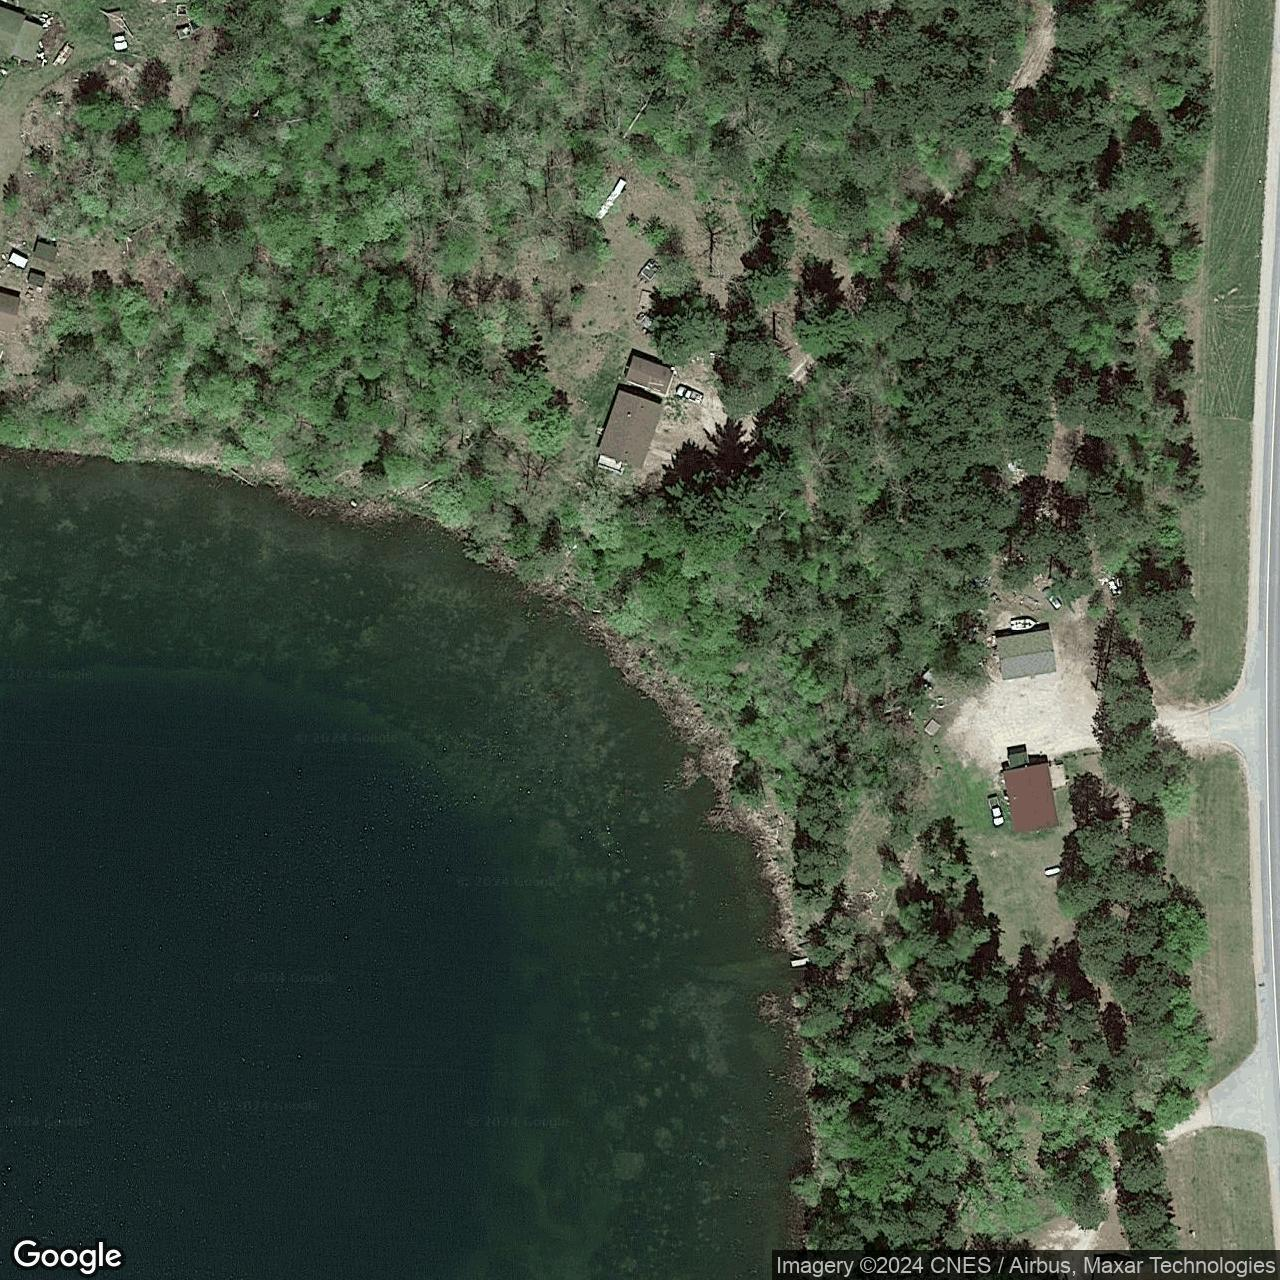Garage: (994, 627, 1058, 682), (620, 354, 678, 397)
House: (597, 388, 665, 472), (1000, 763, 1061, 835), (0, 6, 45, 62)
Propane: (1042, 862, 1063, 880)
